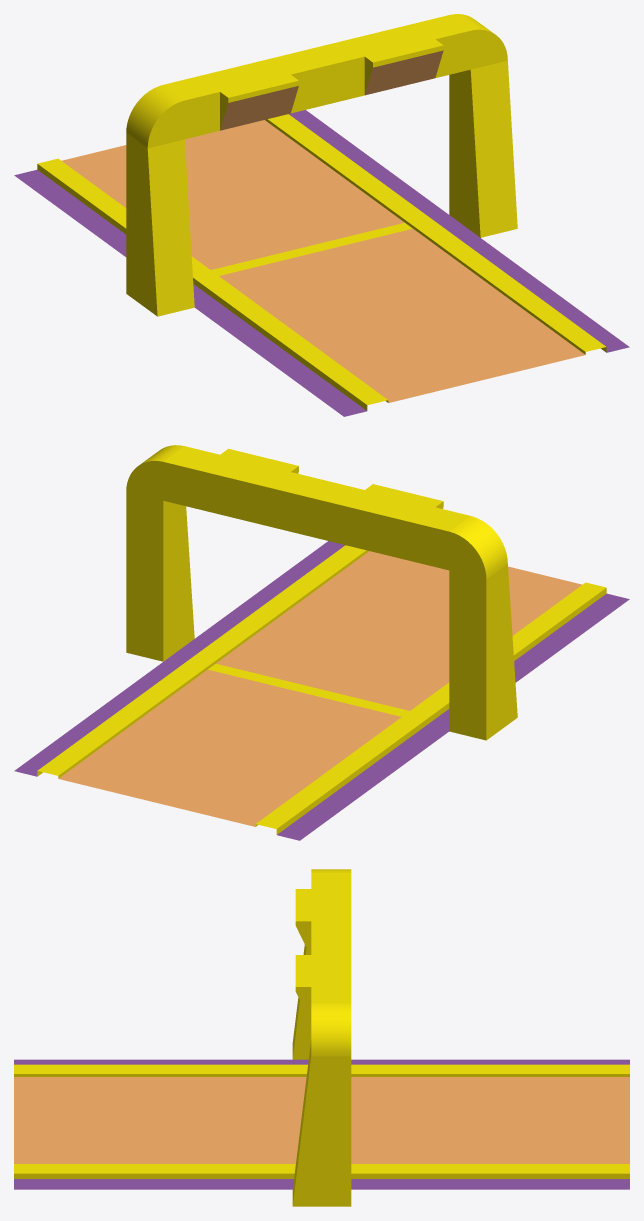
Rendered from roadStart.glb.
3 renders of one model, top to bottom at view 1: azimuth 30°, elevation 25°; view 2: azimuth 150°, elevation 25°; view 3: azimuth 270°, elevation 25°, orthographic. The views are drawn at different scales.
Visible parts, largest first — view 1: roadStart(Clone); view 2: roadStart(Clone); view 3: roadStart(Clone).
Boxes of the visible parts, box(x1,y1,x2,y2) form: roadStart(Clone): box(14, 14, 629, 416); roadStart(Clone): box(14, 445, 629, 840); roadStart(Clone): box(14, 869, 629, 1206).
Bounding box in the file's own units: 1.26 × 0.6682 × 2.
